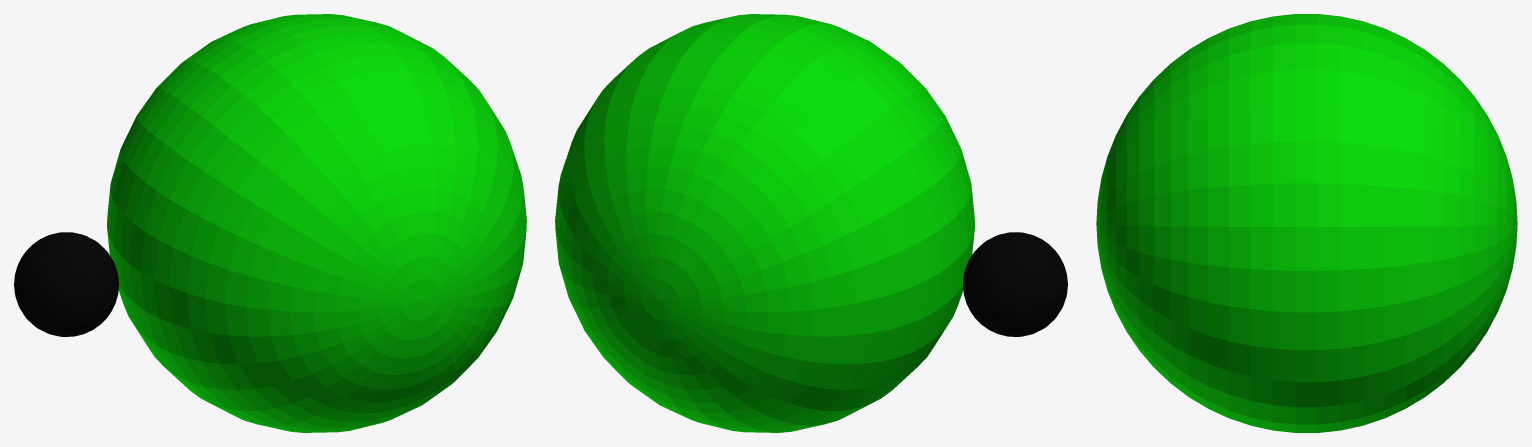
File: Hydrochloric Acid.glb
3 renders of one model, left to right at view 1: azimuth 30°, elevation 25°; view 2: azimuth 150°, elevation 25°; view 3: azimuth 270°, elevation 25°, orthographic.
Visible parts, largest first — view 1: world; view 2: world; view 3: world.
Part boxes in pixels (bbox=[...]): world: bbox=[14, 14, 526, 432]; world: bbox=[555, 14, 1067, 432]; world: bbox=[1096, 14, 1517, 432].
Size of the model in its own units: 2.62 by 1.99 by 2.
